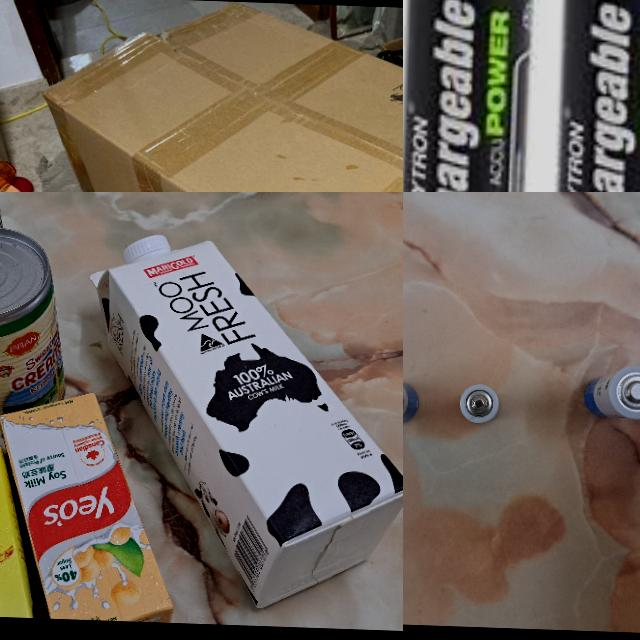bateria: (403, 0, 541, 192), (546, 0, 640, 192), (583, 363, 640, 421), (459, 382, 500, 423)
caixinha: (79, 236, 403, 615), (0, 389, 179, 622), (0, 407, 49, 617)
lata: (0, 223, 72, 420)
papelão: (29, 0, 403, 192)
tampa plástica: (122, 233, 171, 266)
